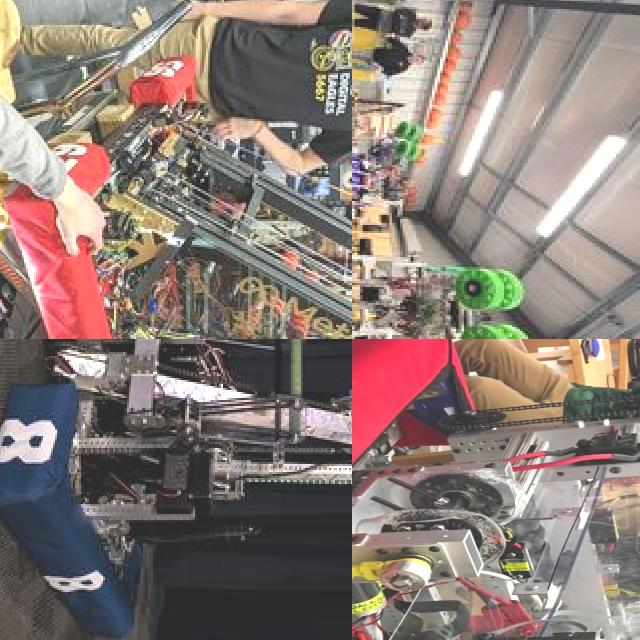FRC-Robots: (27, 17, 352, 339), (352, 339, 640, 640), (0, 339, 352, 563), (352, 0, 504, 339), (352, 58, 419, 248)
